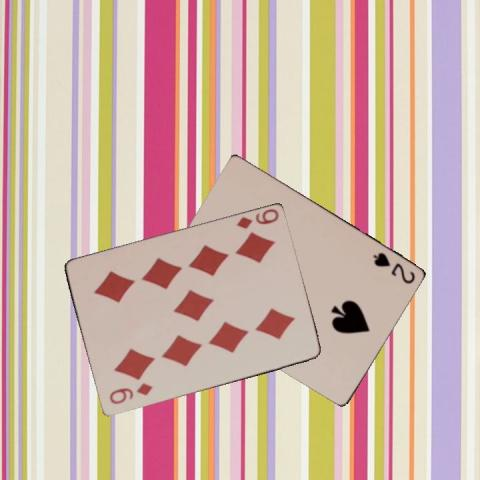2s: (370, 250, 417, 286)
9d: (106, 380, 154, 406), (233, 206, 280, 231)
